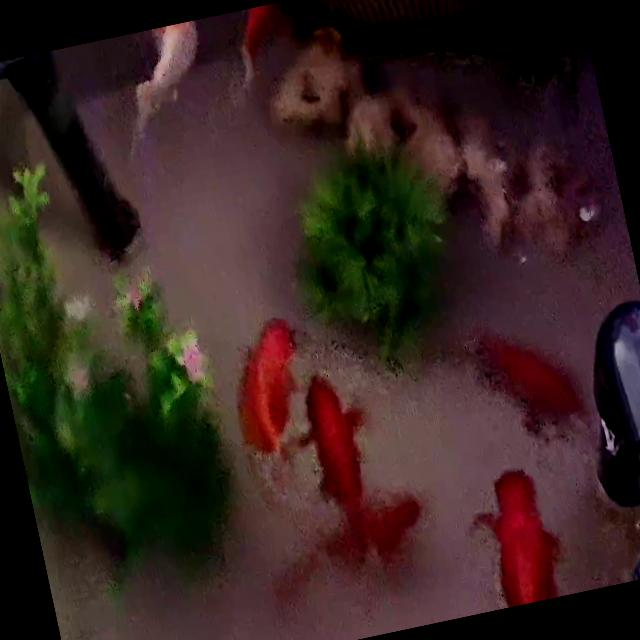fish: (466, 313, 589, 441), (219, 310, 320, 462), (464, 464, 569, 610), (108, 21, 215, 152), (298, 367, 382, 526), (342, 488, 433, 575), (236, 0, 306, 67)
